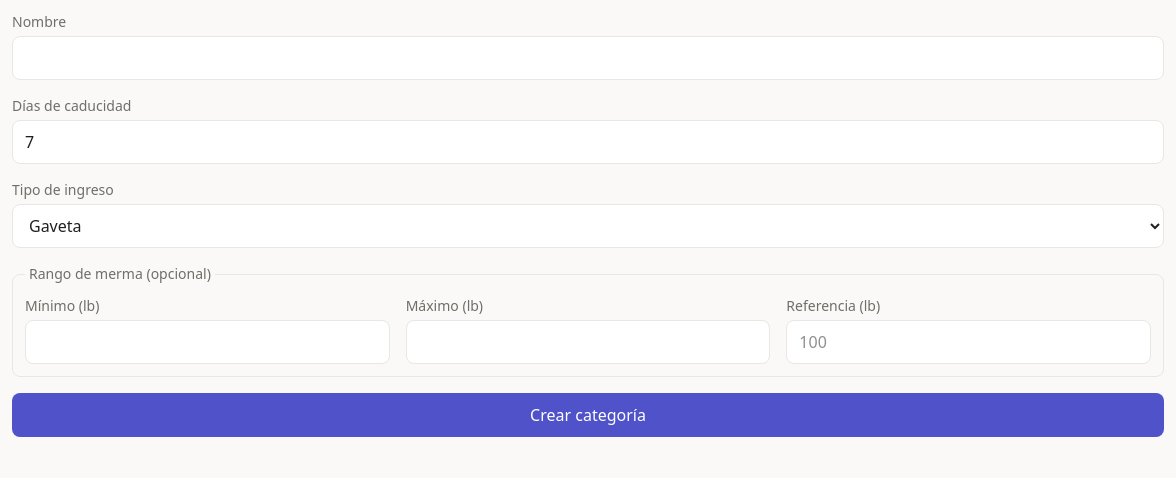
Scenario: CategoryForm › valida el nombre requerido y no envía
The width and height of the screenshot is (1176, 478).
Click the button "Crear categoría": [588, 415] box [12, 393, 1164, 437]
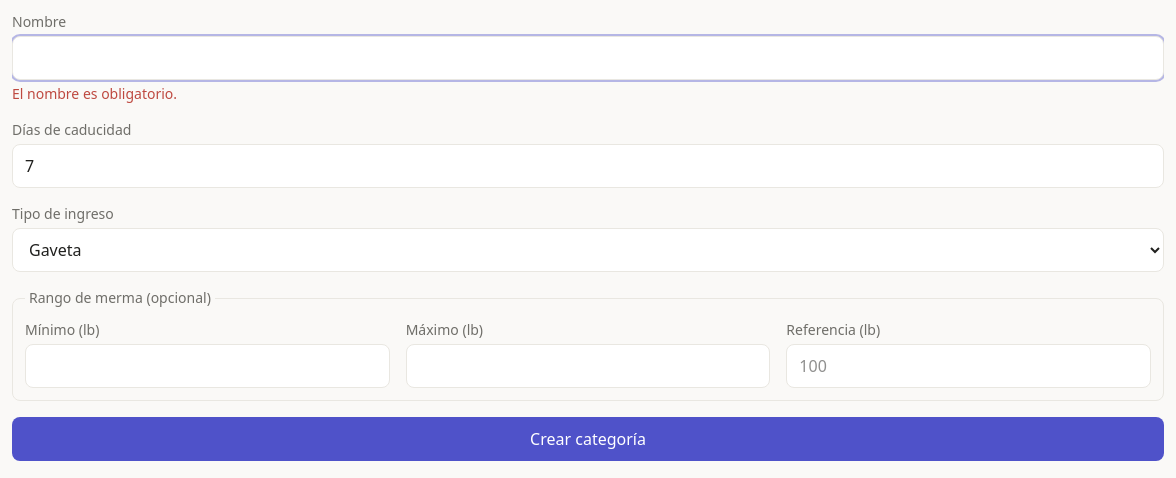
Check: the text "El nombre es obligatorio." is shown, box [12, 84, 177, 103]
